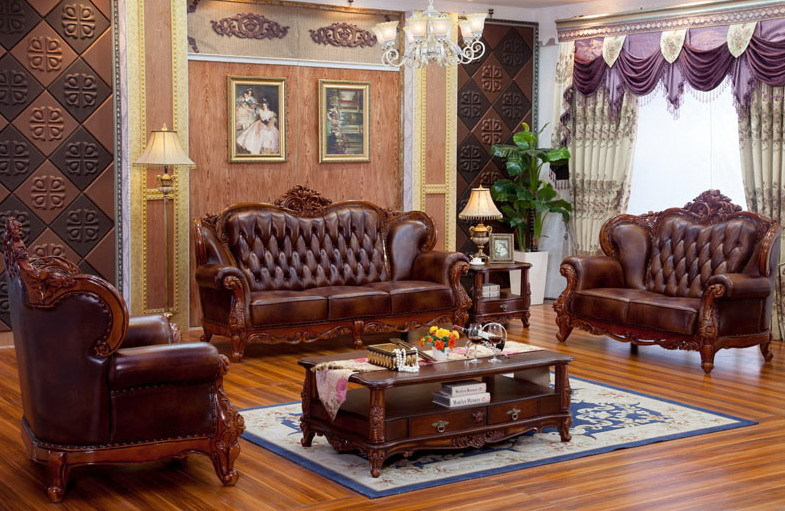Carving Chair: (15, 252, 254, 486), (196, 192, 477, 346), (560, 200, 762, 362)
Carving Table: (296, 345, 579, 466)
